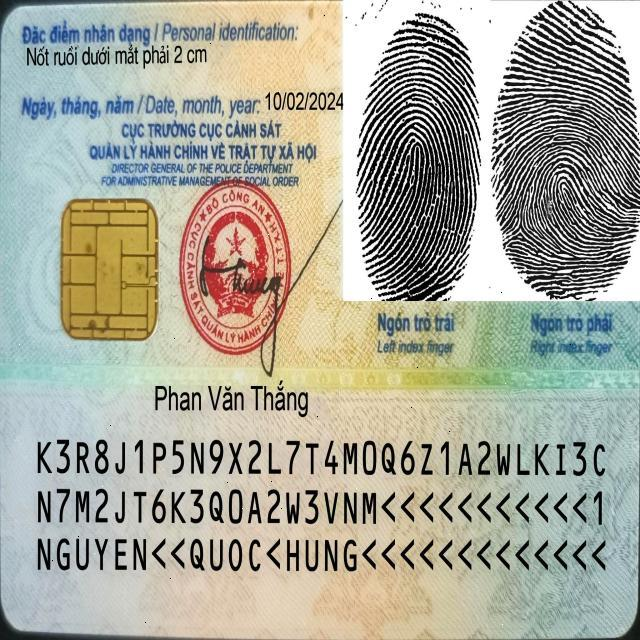features: (21, 42, 222, 72)
finger_print: (487, 0, 640, 363), (344, 0, 482, 358)
issue_date: (264, 86, 345, 114)
